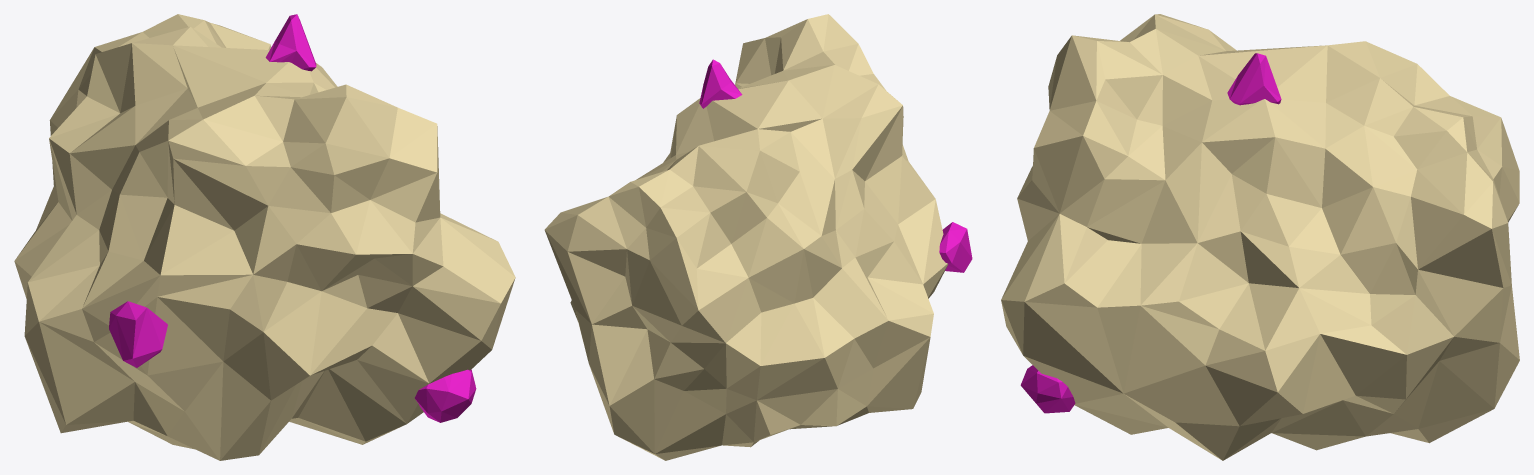
The model's file is CrystalOre (5).fbx.
3 views of the same model, side by side, from view 1: azimuth 30°, elevation 25°; view 2: azimuth 150°, elevation 25°; view 3: azimuth 270°, elevation 25° (orthographic). The views are drawn at different scales.
Visible parts, largest first — view 1: Asteroid225; view 2: Asteroid225; view 3: Asteroid225.
Part boxes in pixels (bbox=[...]): Asteroid225: bbox=[14, 14, 515, 460]; Asteroid225: bbox=[544, 14, 972, 460]; Asteroid225: bbox=[1001, 14, 1519, 460].
Size of the model in its own units: 335 by 320 by 372.
